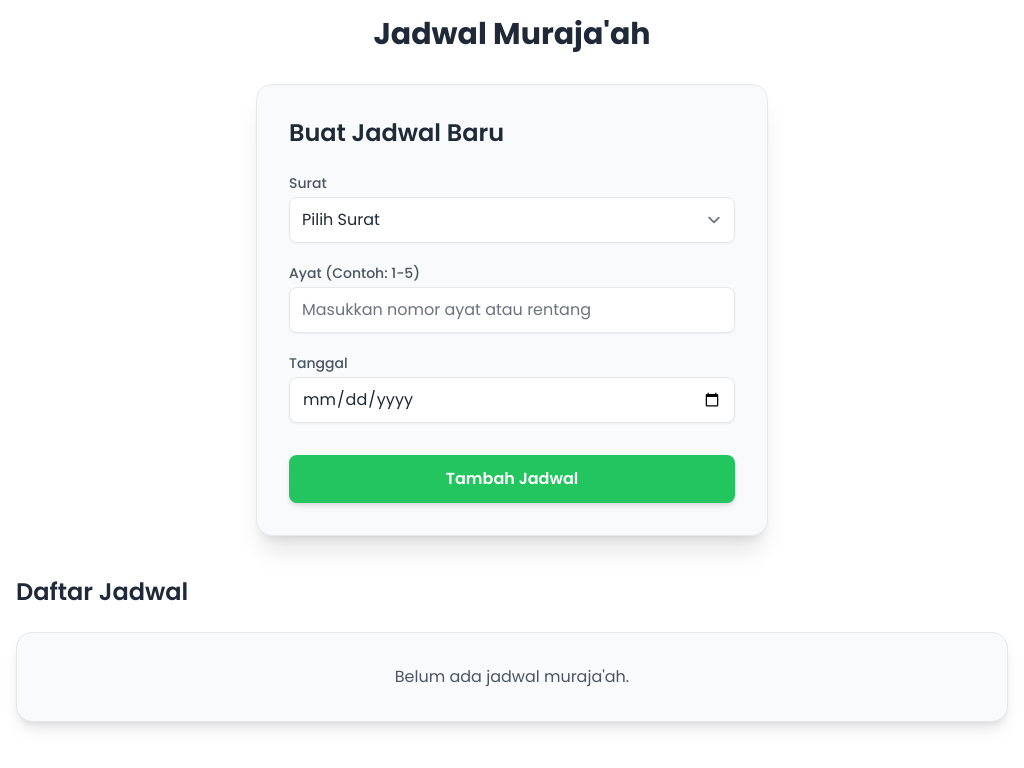
Test: Reminder Page › Authenticated User › Form Functionality › successfully creates a new reminder
The width and height of the screenshot is (1024, 768).
Select "1. Al-Fatihah (الفاتحة)" in the dropdown labelled "Surat": (512, 220) [289,197,735,243]
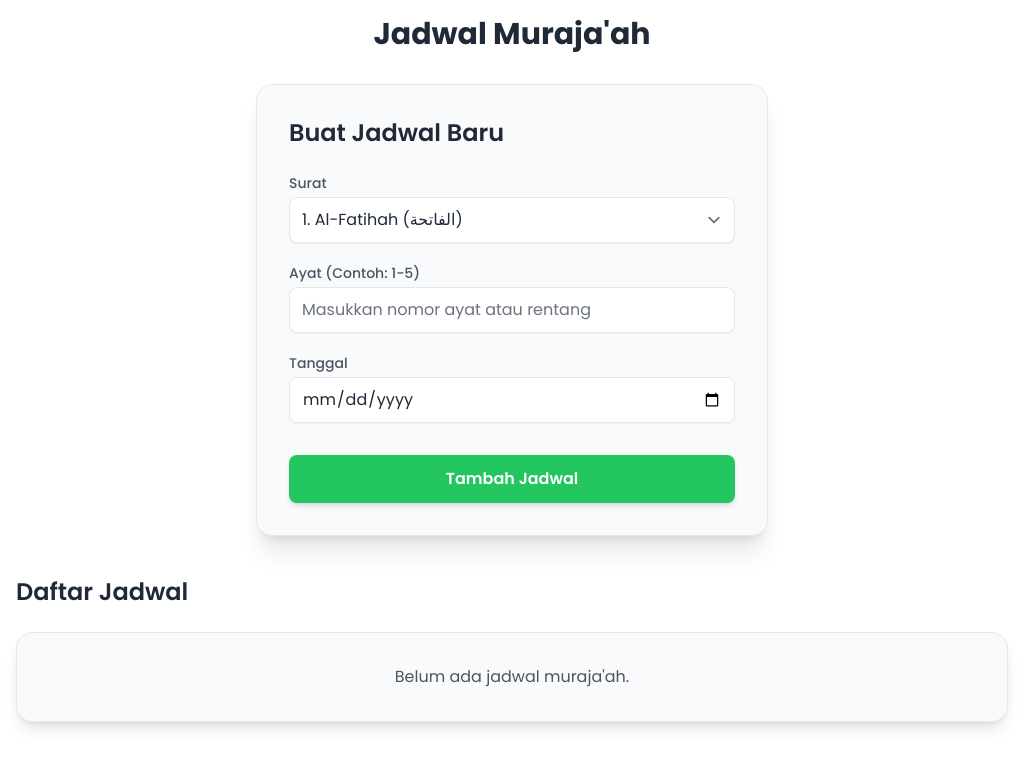
In the field labelled "Ayat (Contoh: 1-5)": (512, 310) [289,287,735,333], type "1-3"
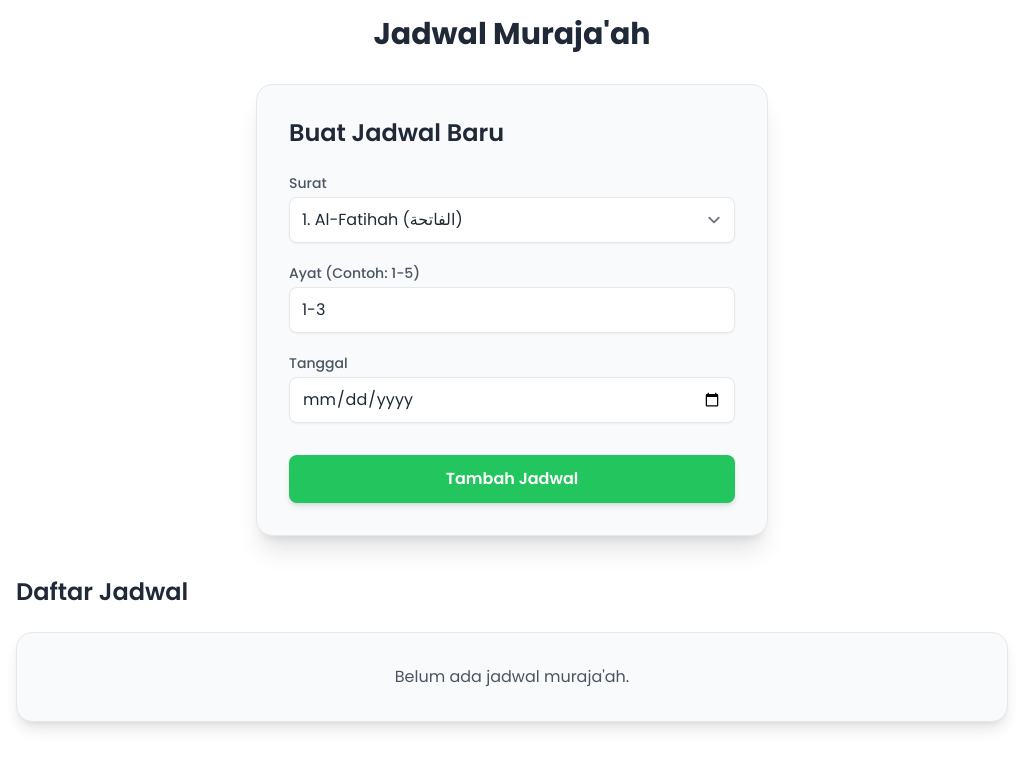
In the date field labelled "Tanggal": (512, 400) [289,377,735,423], type "2025-06-20"
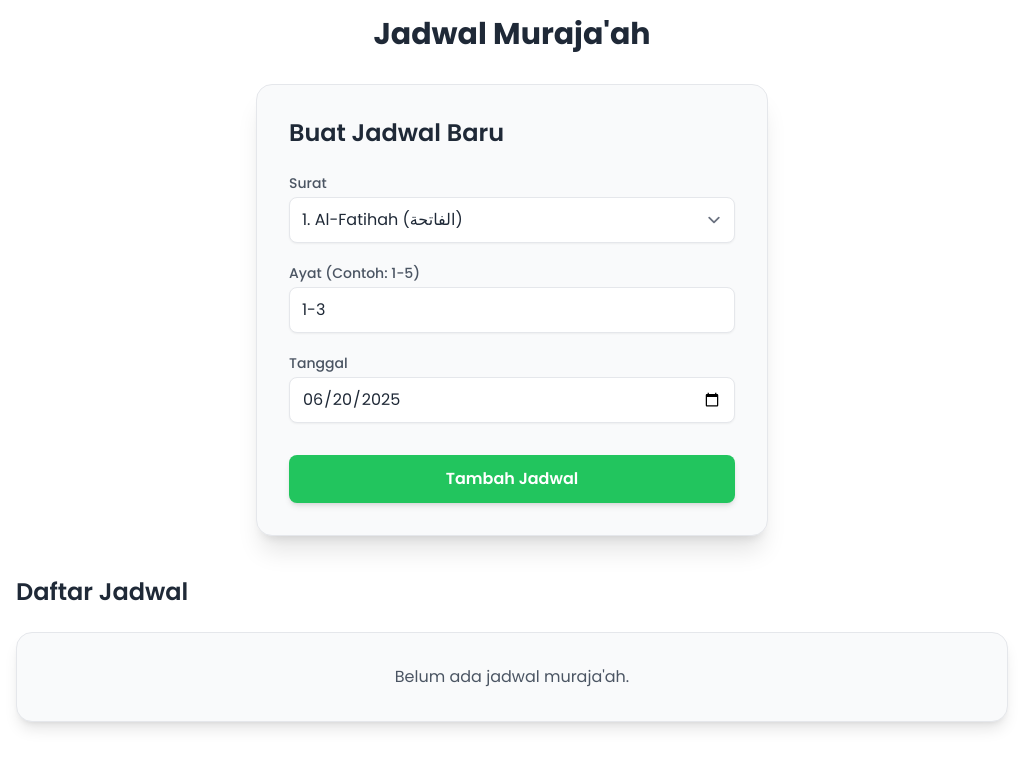
Click the button "Tambah Jadwal": (512, 479) [289,455,735,503]
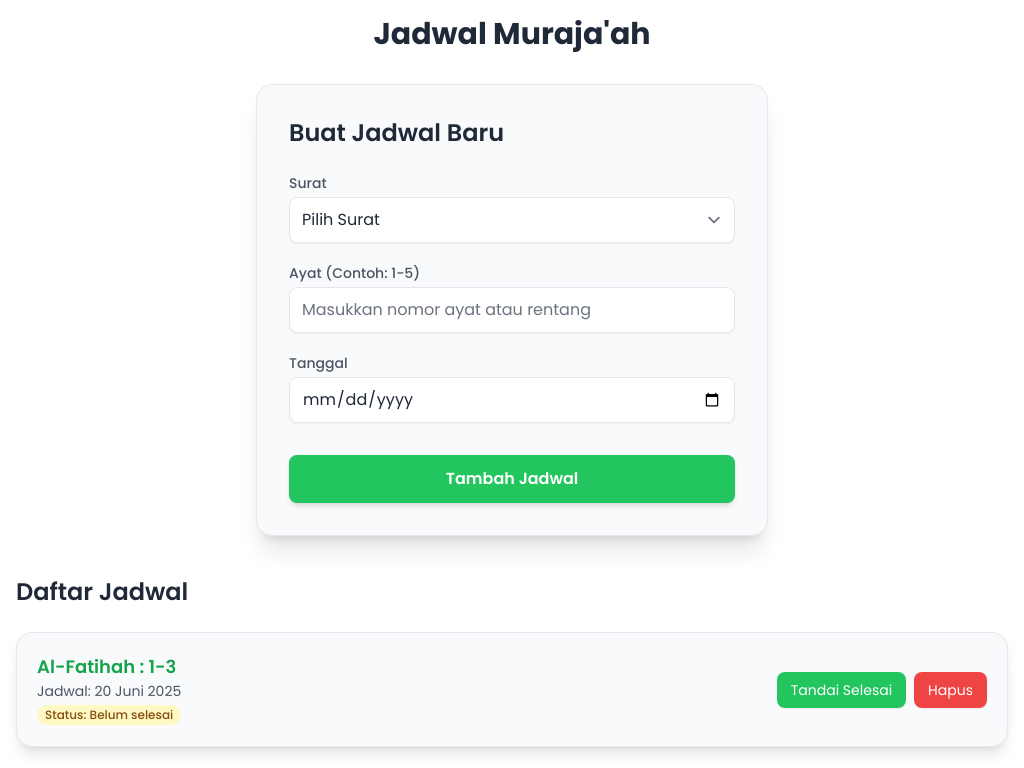
Result: the text "Al-Fatihah : 1-3" is shown at [37,653,181,681]
Result: the field labelled "Ayat (Contoh: 1-5)" is empty at [289,287,735,333]
